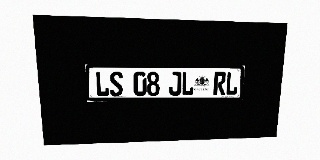0: (133, 72, 146, 96)
8: (147, 72, 160, 96)
J: (169, 72, 181, 96)
L: (95, 71, 109, 96), (181, 72, 194, 95), (225, 72, 238, 95)
R: (213, 72, 226, 95)
S: (109, 72, 123, 96)
